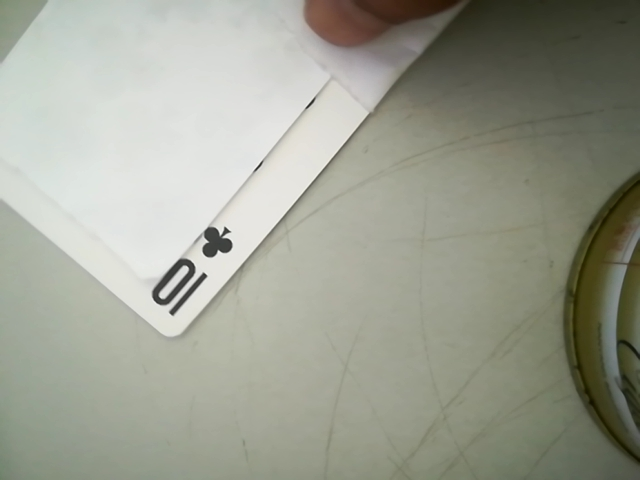mh 10: (135, 220, 248, 323)
